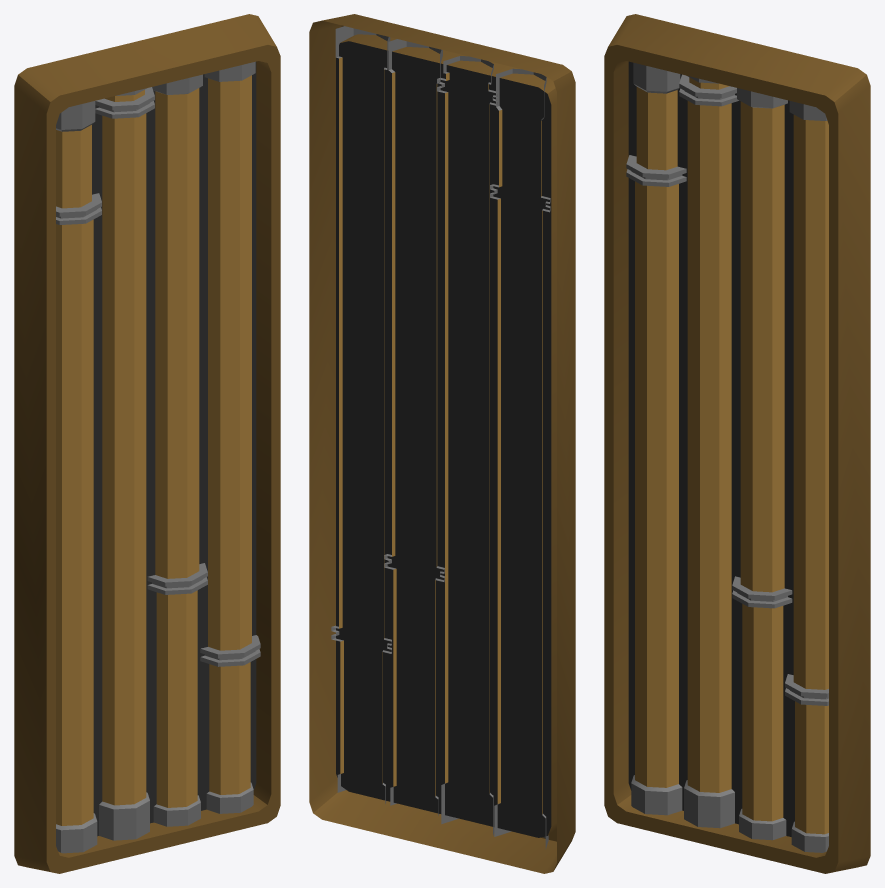
Rendered from Details_Pipes_Long.glb.
The picture shows the model from 3 angles, left to right: view 1: azimuth 30°, elevation 25°; view 2: azimuth 150°, elevation 25°; view 3: azimuth 330°, elevation 25°; orthographic projection.
Parts seen in each view (by area): view 1: Details_Pipes_Long; view 2: Details_Pipes_Long; view 3: Details_Pipes_Long.
Part boxes in pixels (x1,y1,x2,y2): Details_Pipes_Long: (14,14,280,873); Details_Pipes_Long: (309,14,575,873); Details_Pipes_Long: (604,14,870,873).
Size of the model in its own units: 0.1749 by 0.5388 by 0.0317.
